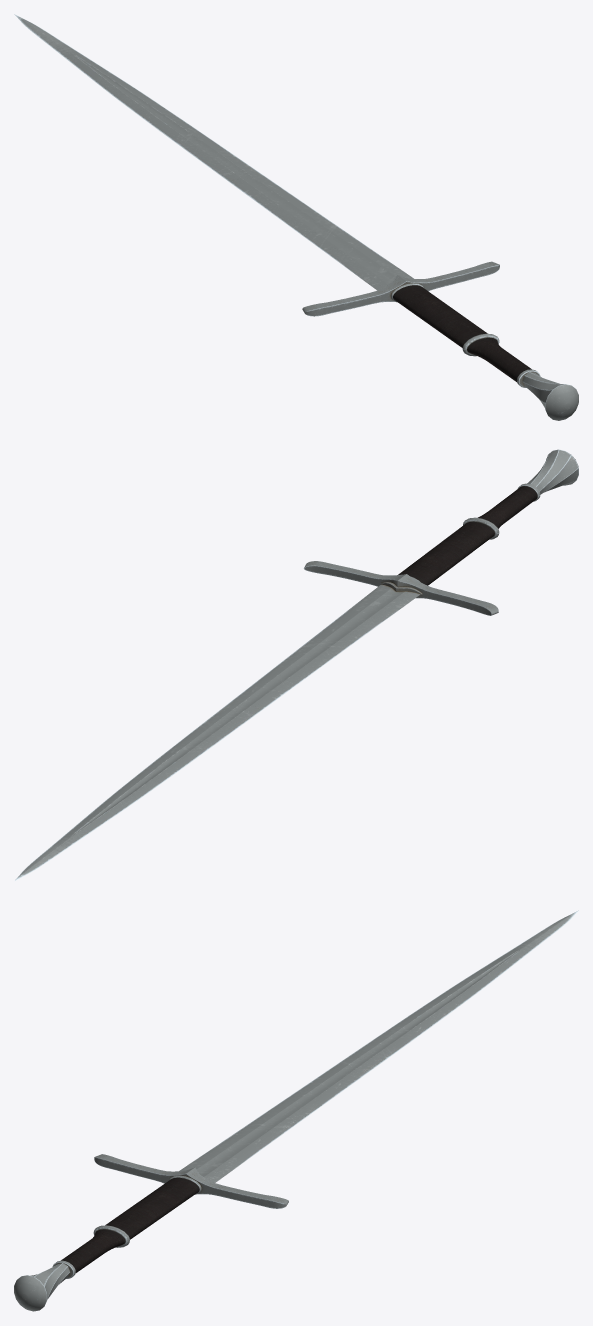
File: steel_sword.glb
The picture shows the model from 3 angles, top to bottom: view 1: azimuth 30°, elevation 25°; view 2: azimuth 150°, elevation 25°; view 3: azimuth 330°, elevation 25°; orthographic projection.
Parts seen in each view (by area): view 1: blade_low, handle_low, guard_low, pommel_low; view 2: blade_low, handle_low, guard_low, pommel_low; view 3: blade_low, handle_low, guard_low, pommel_low.
Boxes of the visible parts, x1,y1,x2,y2 form: blade_low: (14,14,413,290); handle_low: (391,283,540,387); guard_low: (302,261,499,316); pommel_low: (522,372,578,420); blade_low: (15,584,420,880); handle_low: (397,483,540,585); guard_low: (304,561,498,615); pommel_low: (527,449,578,494); blade_low: (179,910,578,1182); handle_low: (52,1175,201,1278); guard_low: (94,1154,288,1208); pommel_low: (14,1263,70,1311).
Size of the model in its own units: 0.1 by 0.0172 by 0.4949.
Materials: 1 (1 with a texture image).
